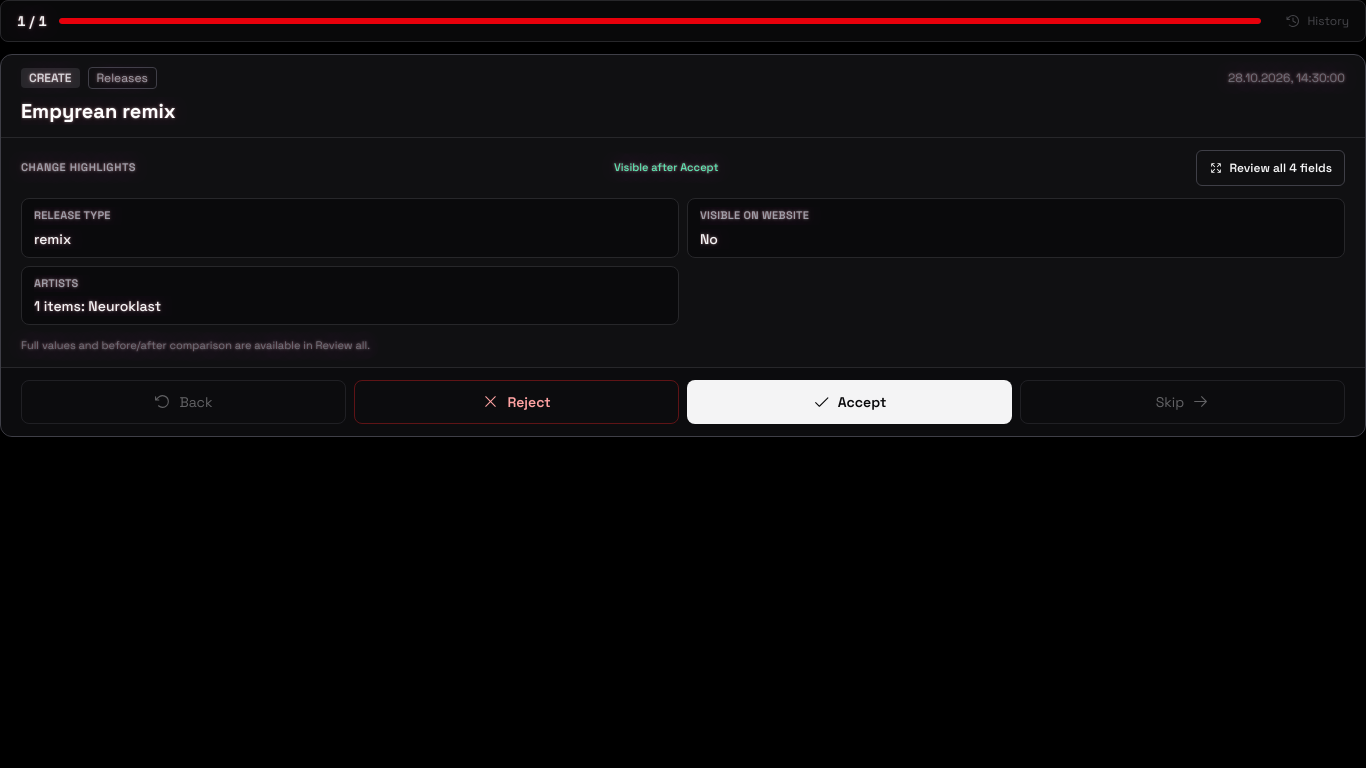
AI content review carousel › shows publication after Accept even when an old queued release has active=false
Expected: the text "Visible after Accept" is shown, [614,159,718,177]
Click the button "Review all 4 fields".
click(1271, 168)  # box [1196,150,1345,186]
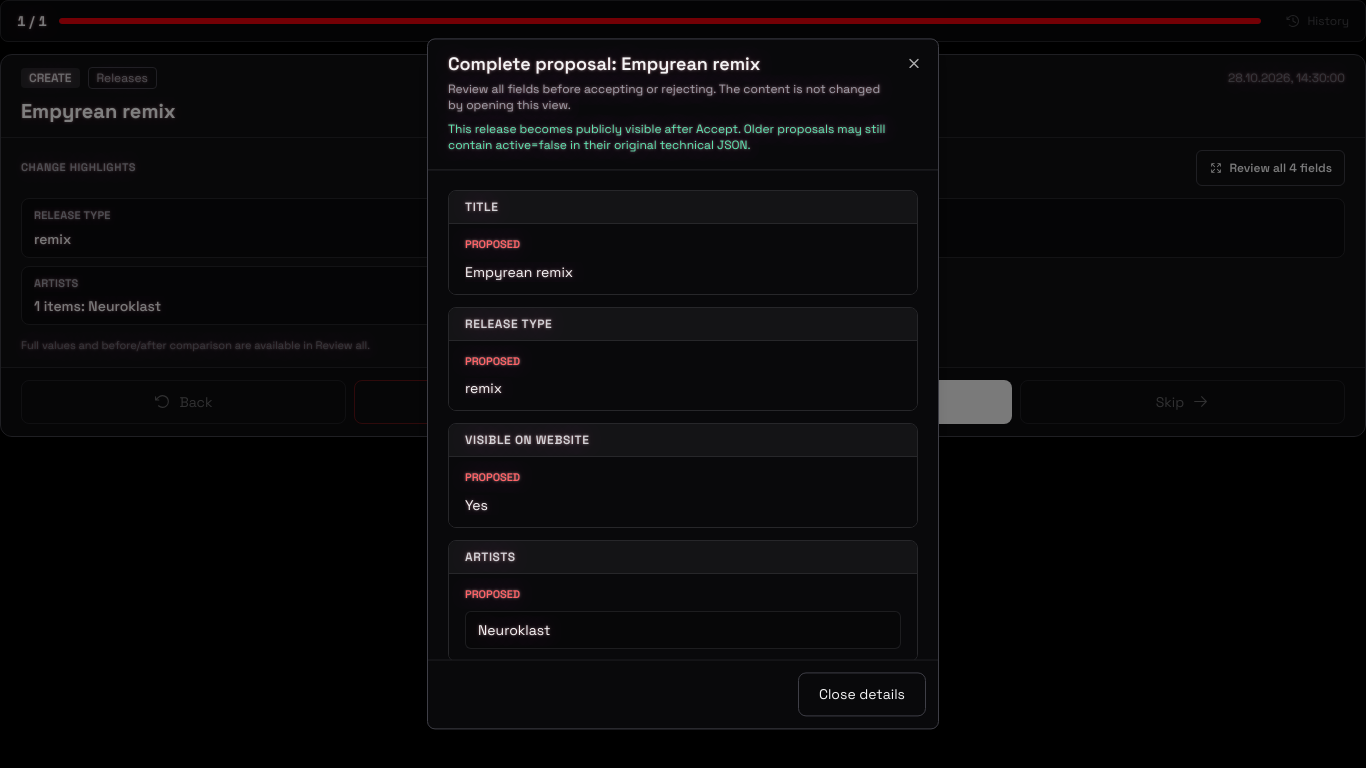
Expected: the text "Visible on website" is shown, [700,208,809,222]
Now the text "Yes" is shown, box [465,496,488,514]
